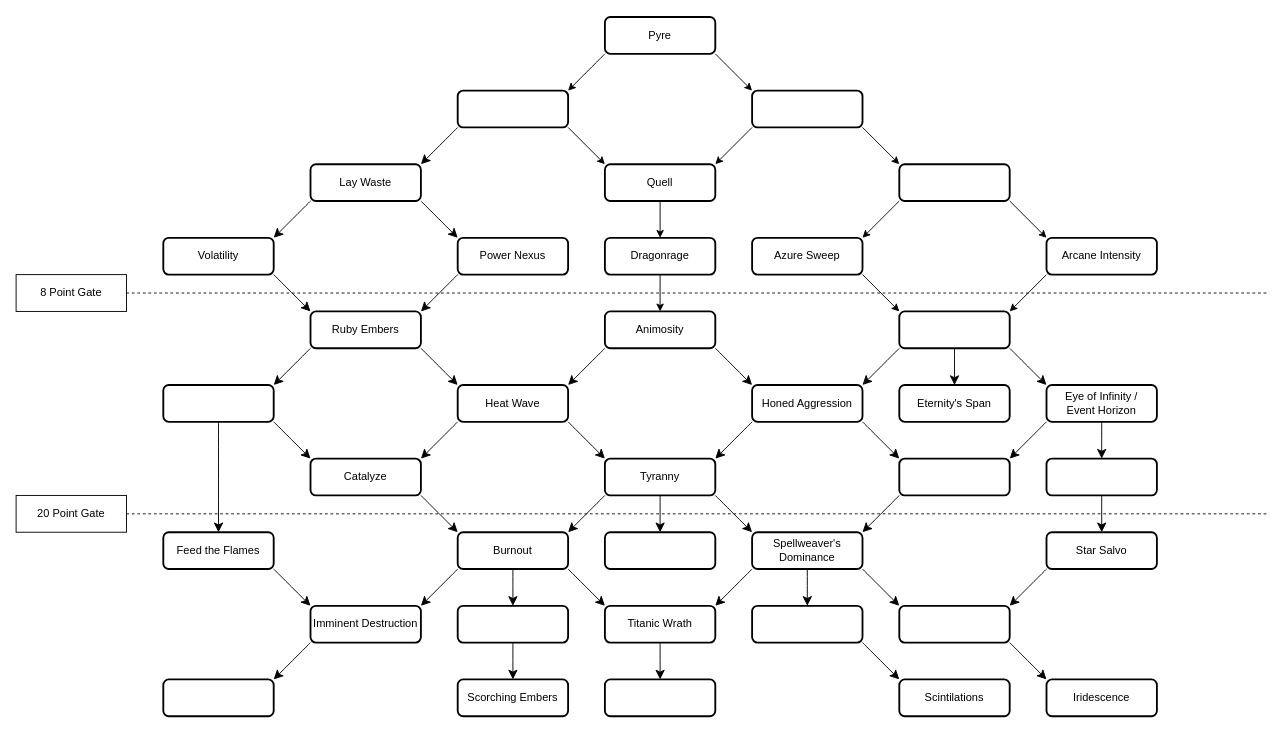
This 1284x732 diagram has some shape labels left out. The shapes that lost their labels are listed below. From the top down, each one's box as (x1, y1, x2, y2) in pixels, then its label:
(456, 89, 569, 128): Ruby EB
(751, 89, 863, 128): Azure EB
(898, 163, 1010, 201): Eternity Surge
(898, 310, 1010, 349): Essence Attunement
(162, 384, 274, 422): Engulfing Blaze
(898, 457, 1010, 496): Charged Blast
(1045, 457, 1157, 496): Shattering Star
(604, 531, 716, 569): Onyx Legacy
(456, 604, 569, 643): Font of Magic
(751, 604, 863, 643): Azure Celerity
(898, 604, 1010, 643): Power Swell
(162, 678, 274, 717): Strafing Run
(604, 678, 716, 717): Causality
